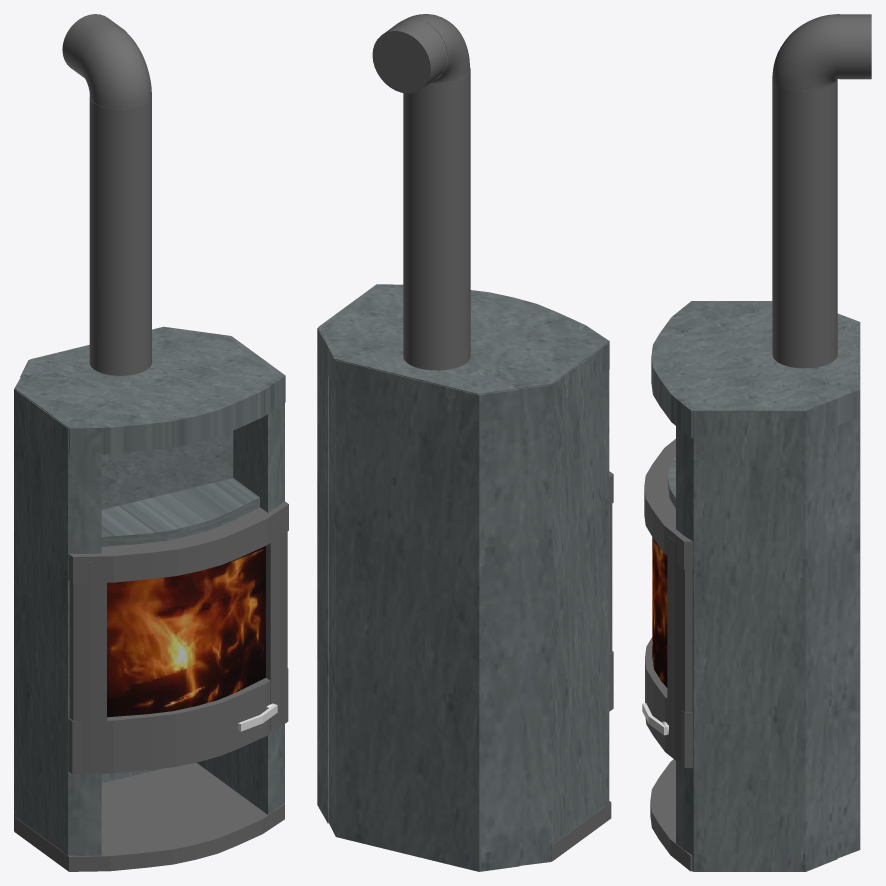
The model's file is AtorHaut.glb.
The picture shows the model from 3 angles, left to right: view 1: azimuth 30°, elevation 25°; view 2: azimuth 150°, elevation 25°; view 3: azimuth 270°, elevation 25°; orthographic projection. The views are drawn at different scales.
Visible parts, largest first — view 1: Node4, Node1, Node10, Node17, Node2, Node8, Node5, Node9, Node11, Node7, Node15, Node16 (+2 smaller); view 2: Node6, Node4, Node17, Node1, Node5, Node18, Node16, Node2, Node11; view 3: Node5, Node17, Node1, Node6, Node12, Node16, Node9, Node18, Node2, Node8, Node10.
Part boxes in pixels (bbox=[...]): Node4: bbox=[14, 375, 101, 855]; Node1: bbox=[15, 326, 285, 454]; Node10: bbox=[107, 546, 265, 717]; Node17: bbox=[89, 95, 151, 375]; Node2: bbox=[14, 762, 284, 871]; Node8: bbox=[68, 668, 288, 773]; Node5: bbox=[196, 403, 284, 814]; Node9: bbox=[68, 501, 288, 583]; Node11: bbox=[69, 561, 106, 771]; Node7: bbox=[101, 478, 259, 546]; Node15: bbox=[101, 431, 233, 509]; Node16: bbox=[77, 25, 151, 109]; Node6: bbox=[329, 360, 519, 871]; Node4: bbox=[508, 342, 609, 865]; Node17: bbox=[403, 56, 470, 370]; Node1: bbox=[318, 284, 609, 394]; Node5: bbox=[317, 328, 328, 823]; Node18: bbox=[372, 18, 447, 93]; Node16: bbox=[404, 14, 470, 83]; Node2: bbox=[552, 801, 611, 861]; Node11: bbox=[609, 504, 612, 653]; Node5: bbox=[676, 399, 837, 871]; Node17: bbox=[772, 79, 837, 368]; Node1: bbox=[651, 301, 859, 438]; Node6: bbox=[837, 313, 860, 858]; Node12: bbox=[667, 536, 692, 760]; Node16: bbox=[772, 14, 839, 90]; Node9: bbox=[644, 439, 693, 569]; Node18: bbox=[839, 14, 871, 79]; Node2: bbox=[650, 759, 692, 871]; Node8: bbox=[645, 637, 692, 767]; Node10: bbox=[652, 537, 667, 687].
Size of the model in its own units: 60.18 by 203 by 52.78.
8 materials, 5 textured.
